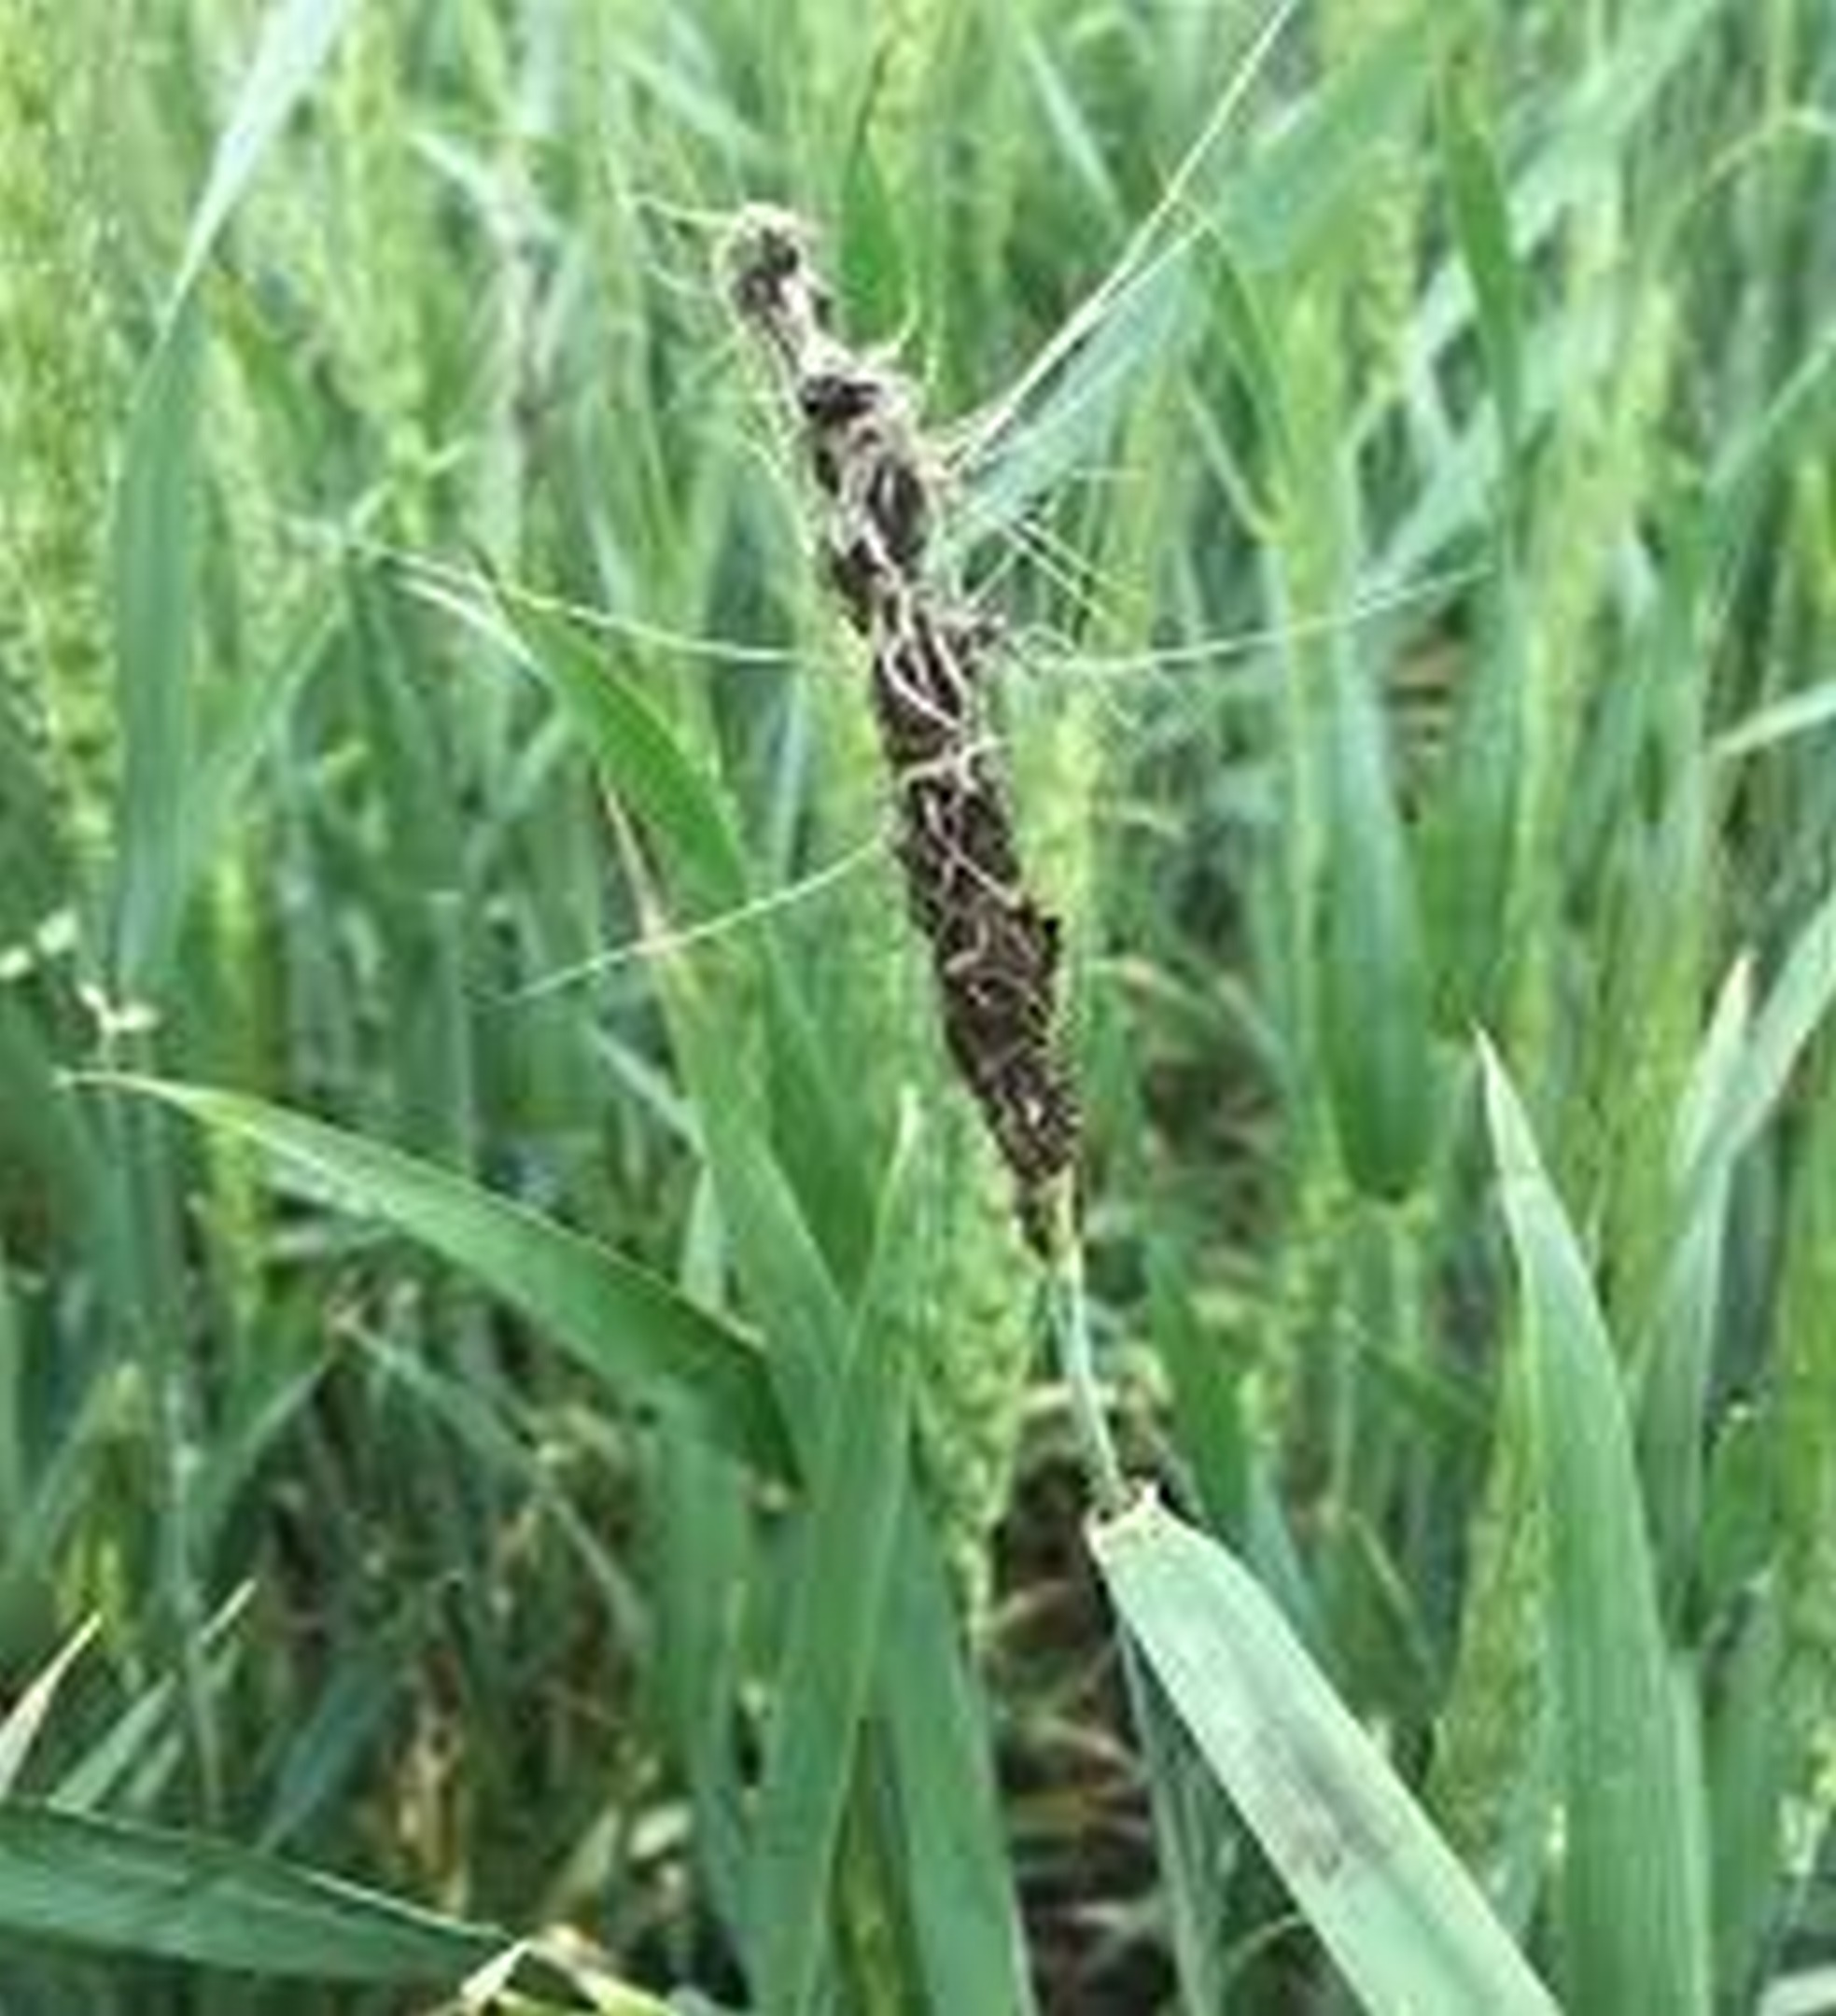Wheat Loose Smut: (698, 207, 1133, 1178)
